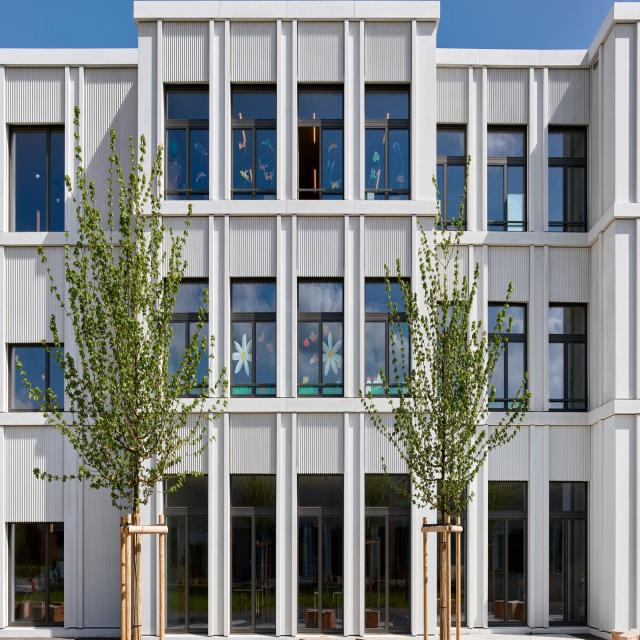door: (230, 464, 274, 633), (297, 471, 343, 630), (367, 472, 411, 632), (164, 476, 205, 634), (552, 477, 592, 628), (10, 518, 64, 626), (489, 481, 527, 623)
window: (363, 274, 414, 399), (298, 84, 347, 203), (230, 276, 277, 398), (10, 128, 66, 229), (298, 279, 343, 399), (166, 277, 210, 398), (365, 85, 411, 199), (231, 82, 277, 194), (165, 87, 210, 200), (4, 340, 66, 413), (547, 128, 589, 235), (487, 300, 528, 409), (549, 312, 590, 409), (488, 132, 528, 230), (434, 127, 466, 229)
